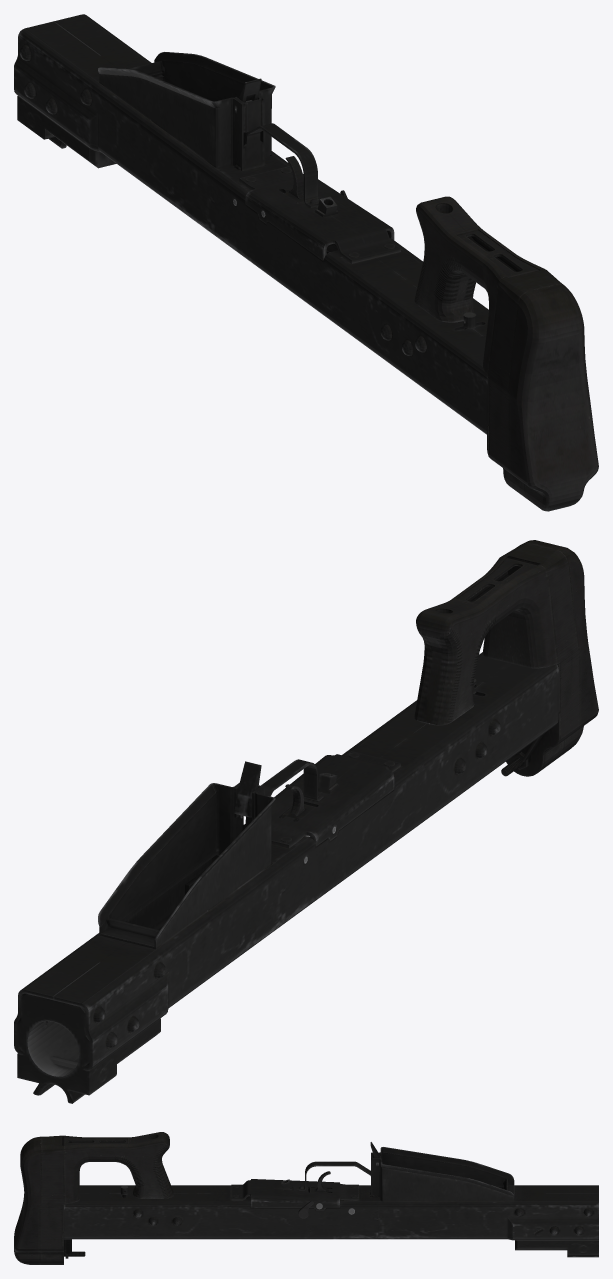
3 views of the same model, one above another, from view 1: azimuth 30°, elevation 25°; view 2: azimuth 150°, elevation 25°; view 3: azimuth 270°, elevation 25° (orthographic). The views are drawn at different scales.
Visible parts, largest first — view 1: TW_67d0576f29f580ebc10efd08_PZ_Import; view 2: TW_67d0576f29f580ebc10efd08_PZ_Import; view 3: TW_67d0576f29f580ebc10efd08_PZ_Import.
Boxes of the visible parts, <box> form: TW_67d0576f29f580ebc10efd08_PZ_Import: <box>14,14,598,511</box>; TW_67d0576f29f580ebc10efd08_PZ_Import: <box>14,540,598,1103</box>; TW_67d0576f29f580ebc10efd08_PZ_Import: <box>14,1132,598,1264</box>.
Bounding box in the file's own units: 0.0418 × 0.4082 × 0.0985.
1 material, 1 textured.
